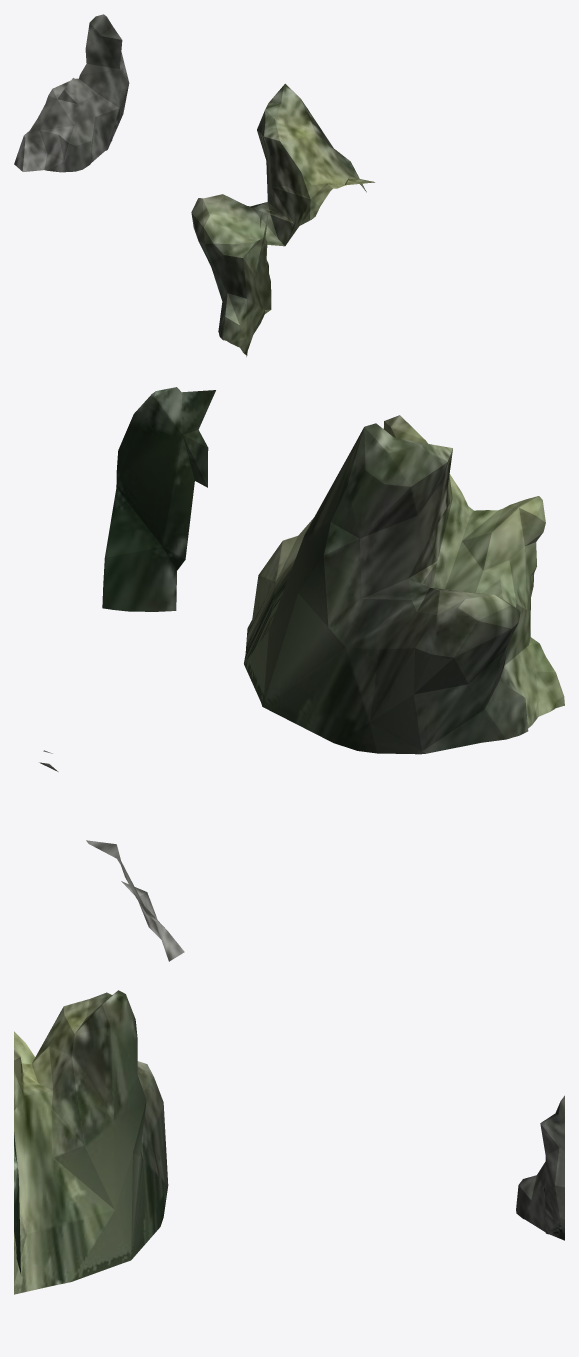
3 renders of one model, top to bottom at view 1: azimuth 30°, elevation 25°; view 2: azimuth 150°, elevation 25°; view 3: azimuth 270°, elevation 25°, orthographic. The views are drawn at different scales.
Bounding box in the file's own units: 4.28 × 2.73 × 5.9.
Materials: 1 (1 with a texture image).
